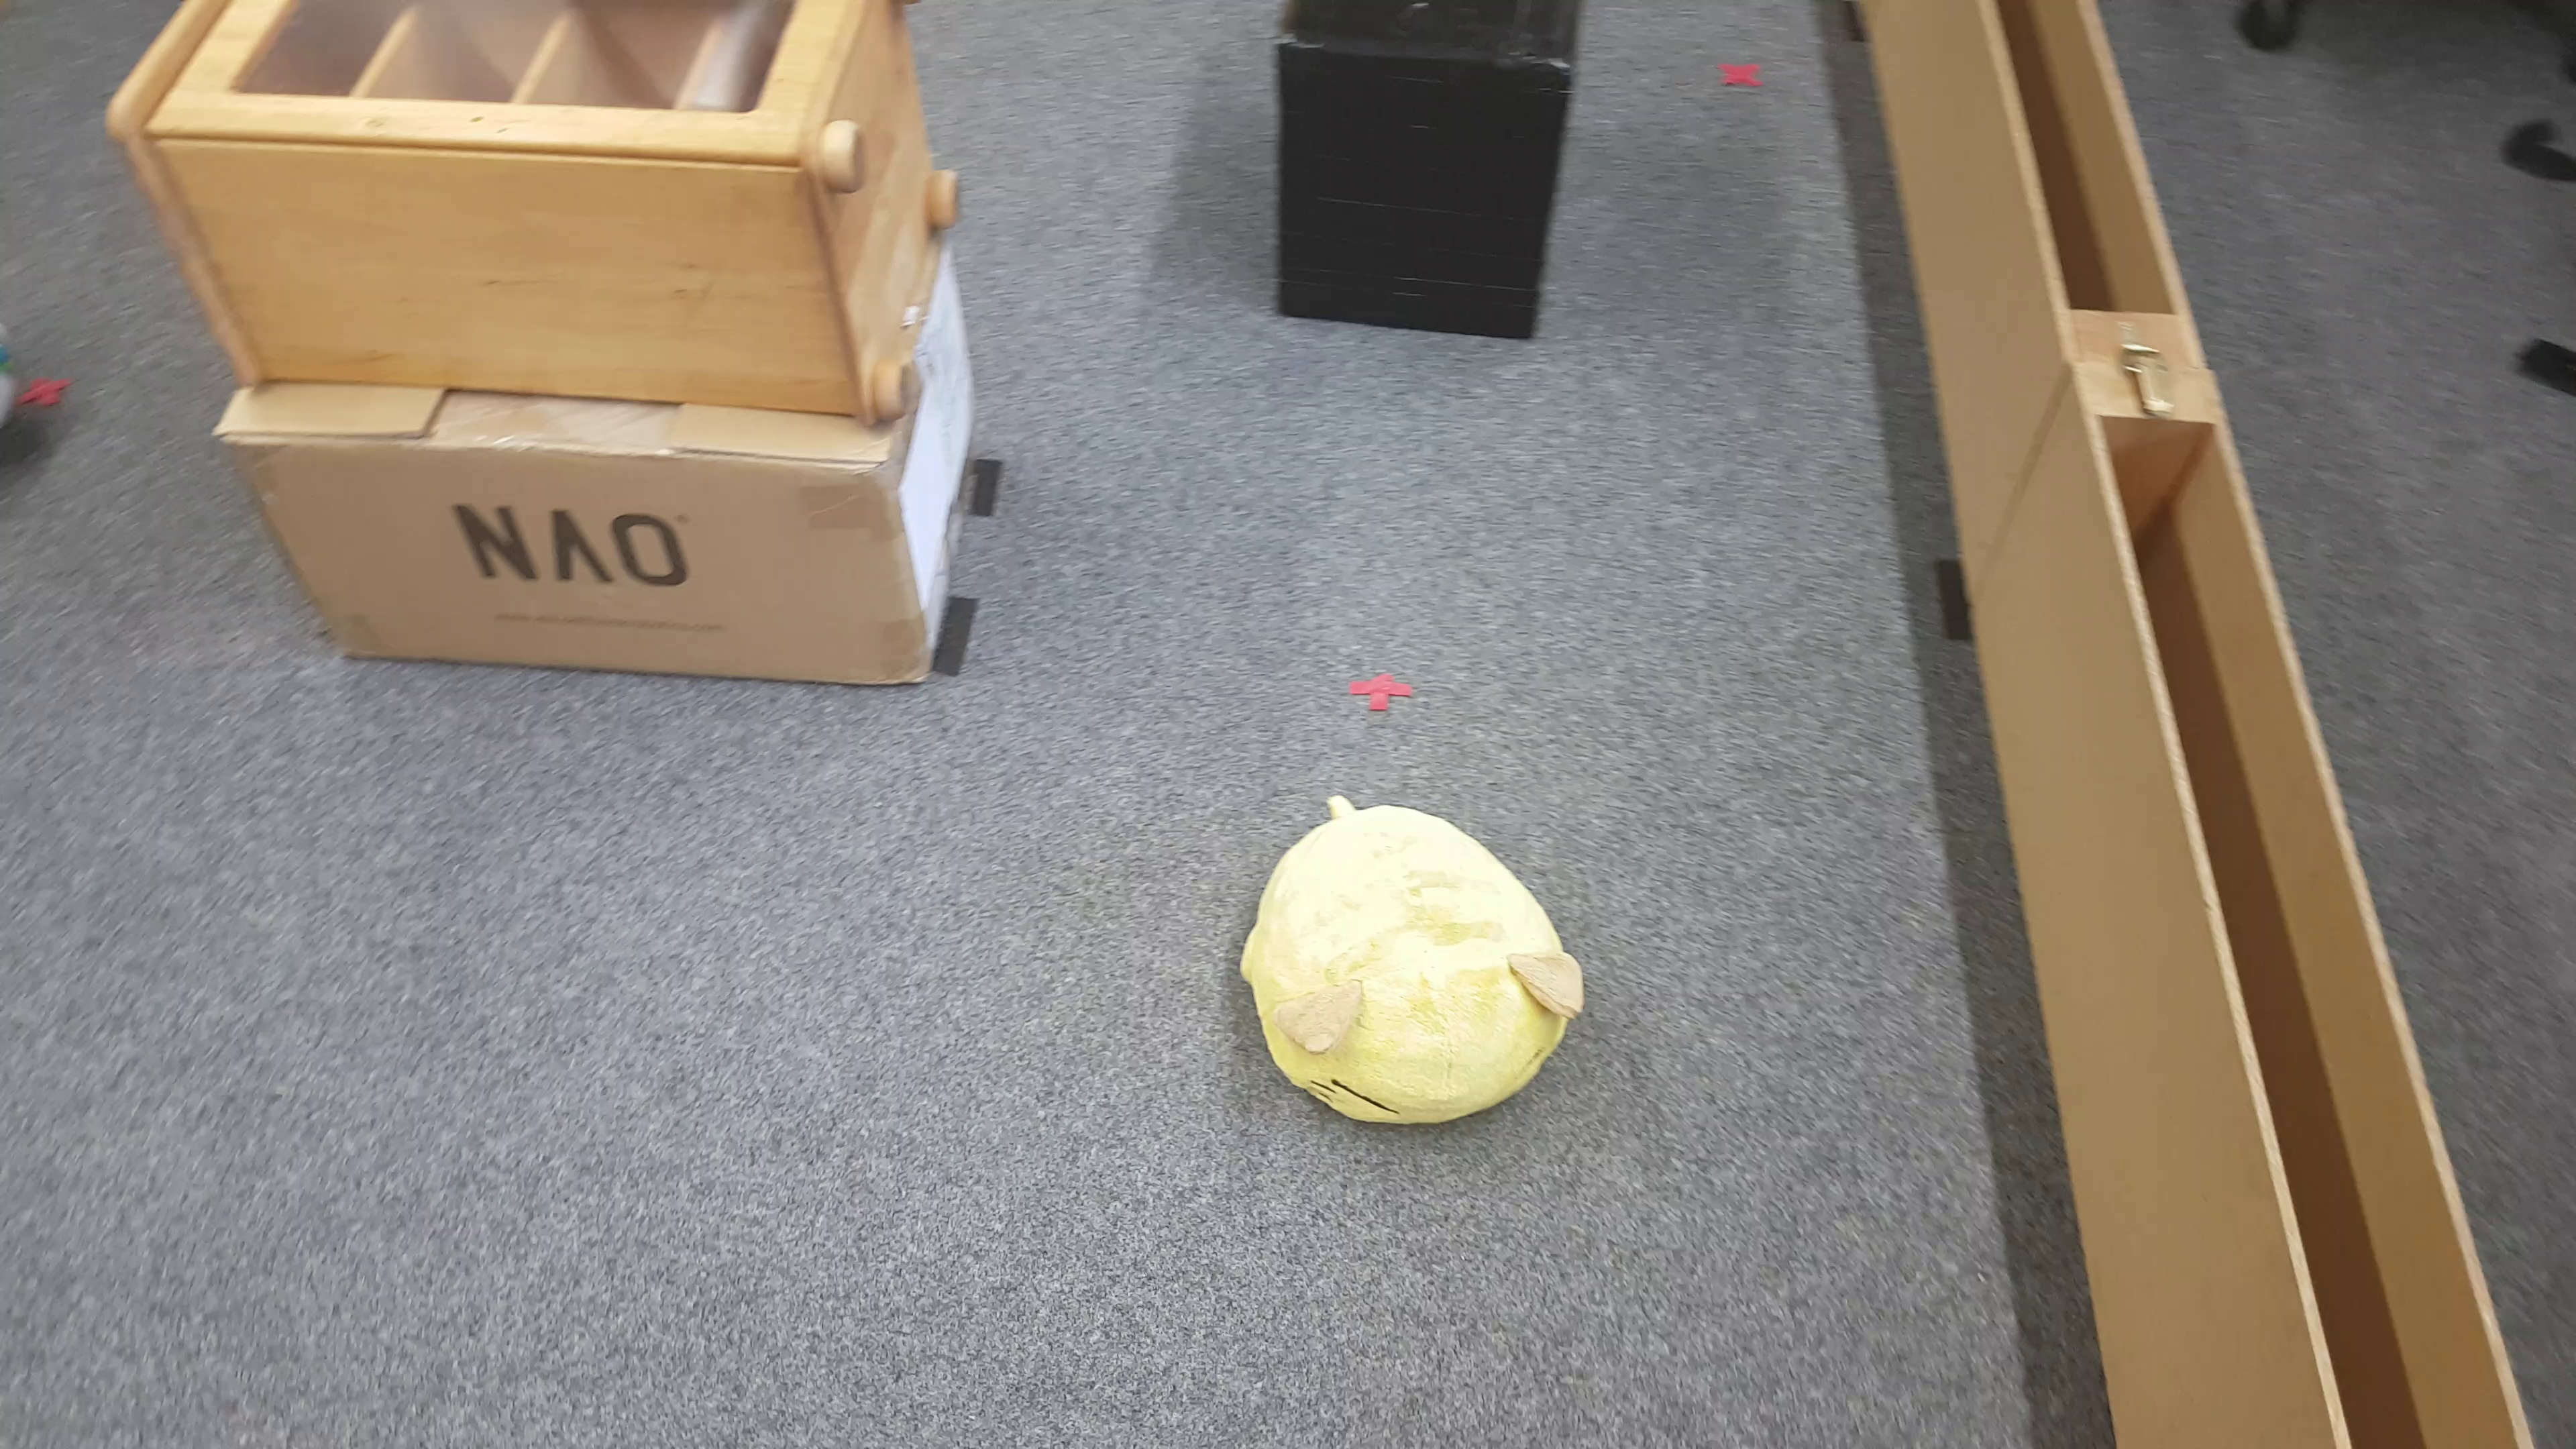grasp: (1235, 791, 1585, 1132)
push: (1274, 4, 1587, 345)
